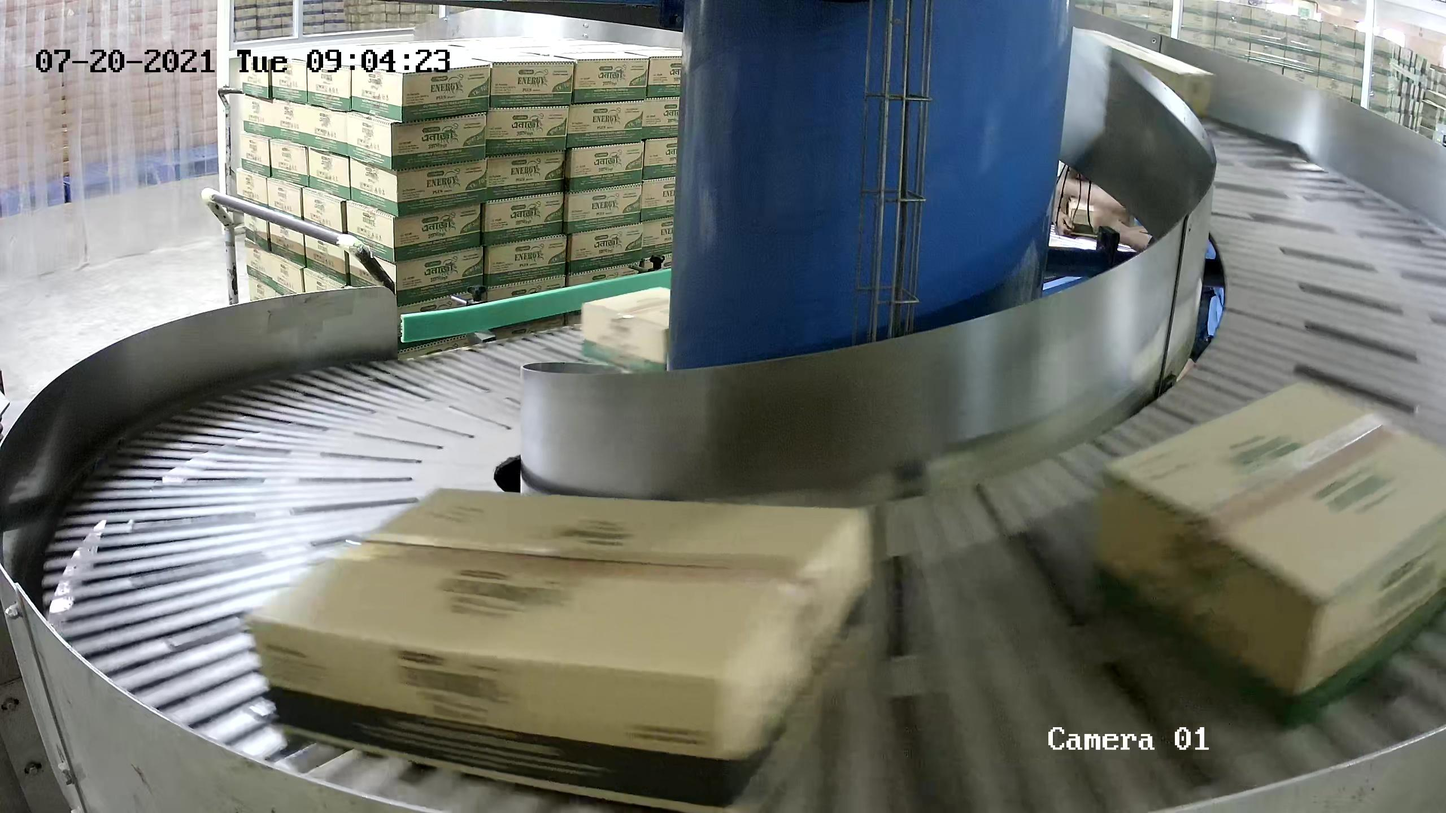Box: (240, 484, 878, 813), (1090, 378, 1446, 733), (579, 286, 670, 372)
